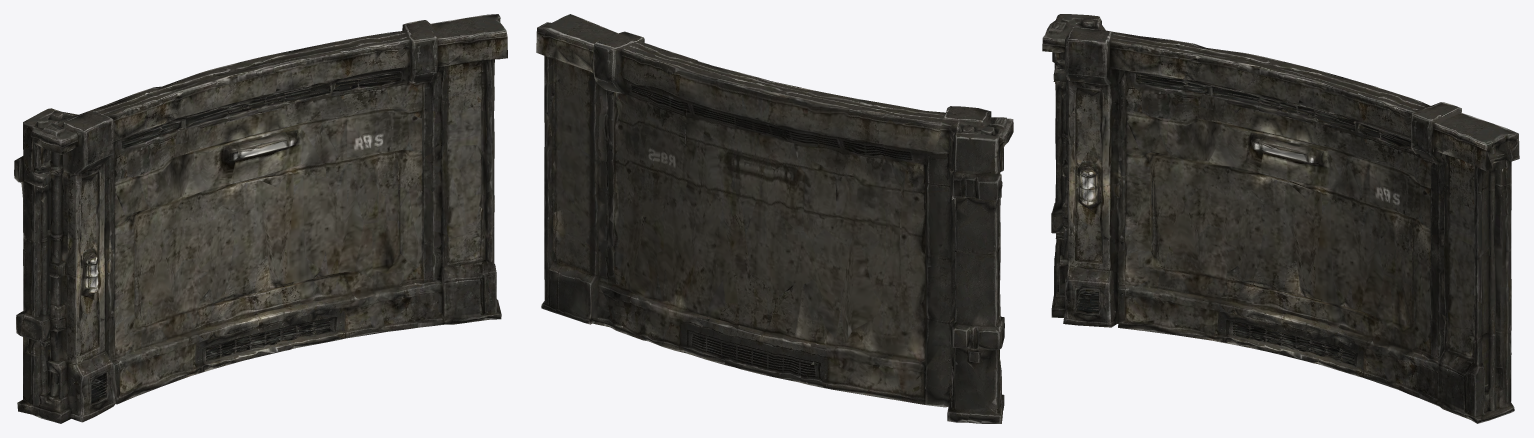
Rendered from chamber_plain_wall.glb.
3 renders of one model, left to right at view 1: azimuth 30°, elevation 25°; view 2: azimuth 150°, elevation 25°; view 3: azimuth 330°, elevation 25°, orthographic.
Size of the model in its own units: 1.9 by 1.12 by 0.2718.
Materials: 1 (1 with a texture image).
